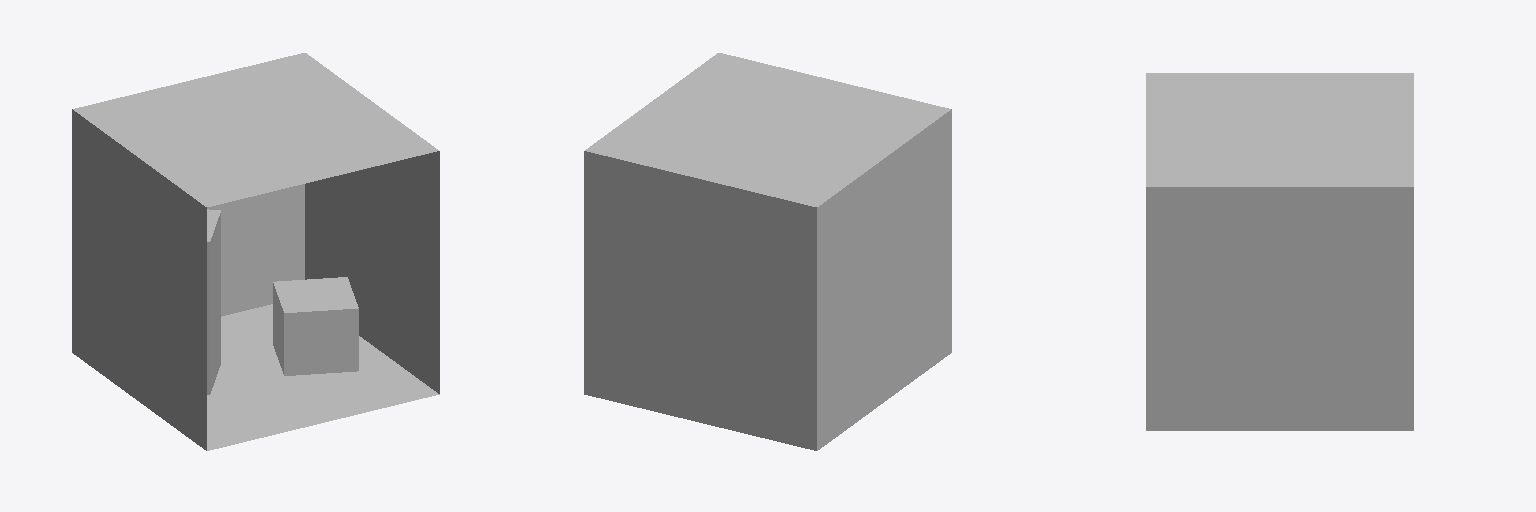
Rendered from box_kevin.obj.
The picture shows the model from 3 angles: view 1: azimuth 30°, elevation 25°; view 2: azimuth 150°, elevation 25°; view 3: azimuth 270°, elevation 25°; orthographic projection.
Visible parts, largest first — view 1: Cube_Cube.003, Cube.001, Cube.002; view 2: Cube_Cube.003; view 3: Cube_Cube.003.
Boxes of the visible parts, x1=… form: Cube_Cube.003: x1=72, y1=53, x2=439, y2=450; Cube.001: x1=273, y1=277, x2=358, y2=375; Cube.002: x1=207, y1=209, x2=220, y2=394; Cube_Cube.003: x1=584, y1=53, x2=951, y2=450; Cube_Cube.003: x1=1146, y1=73, x2=1413, y2=430.
Bounding box in the file's own units: 5.92 × 6.12 × 5.92.